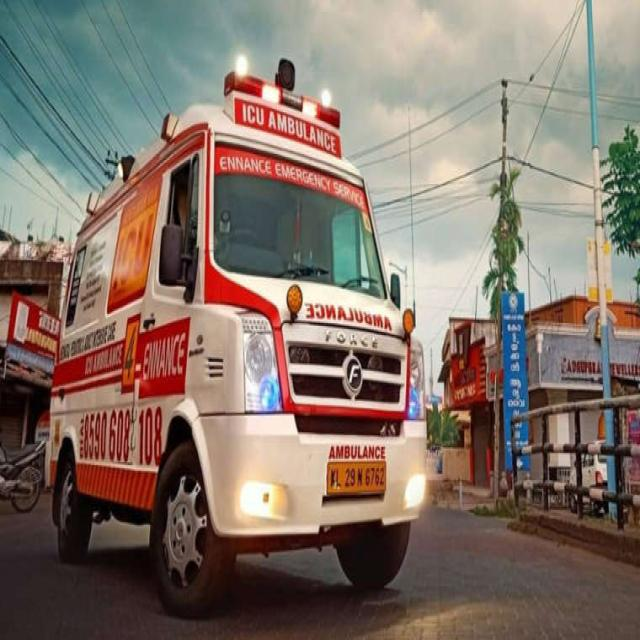ambulance: (49, 56, 427, 594)
